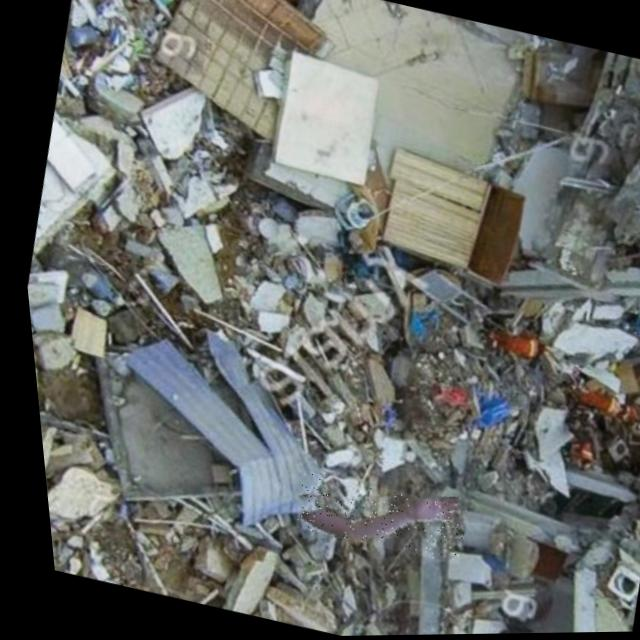Person in Rubble: (279, 469, 459, 568)
